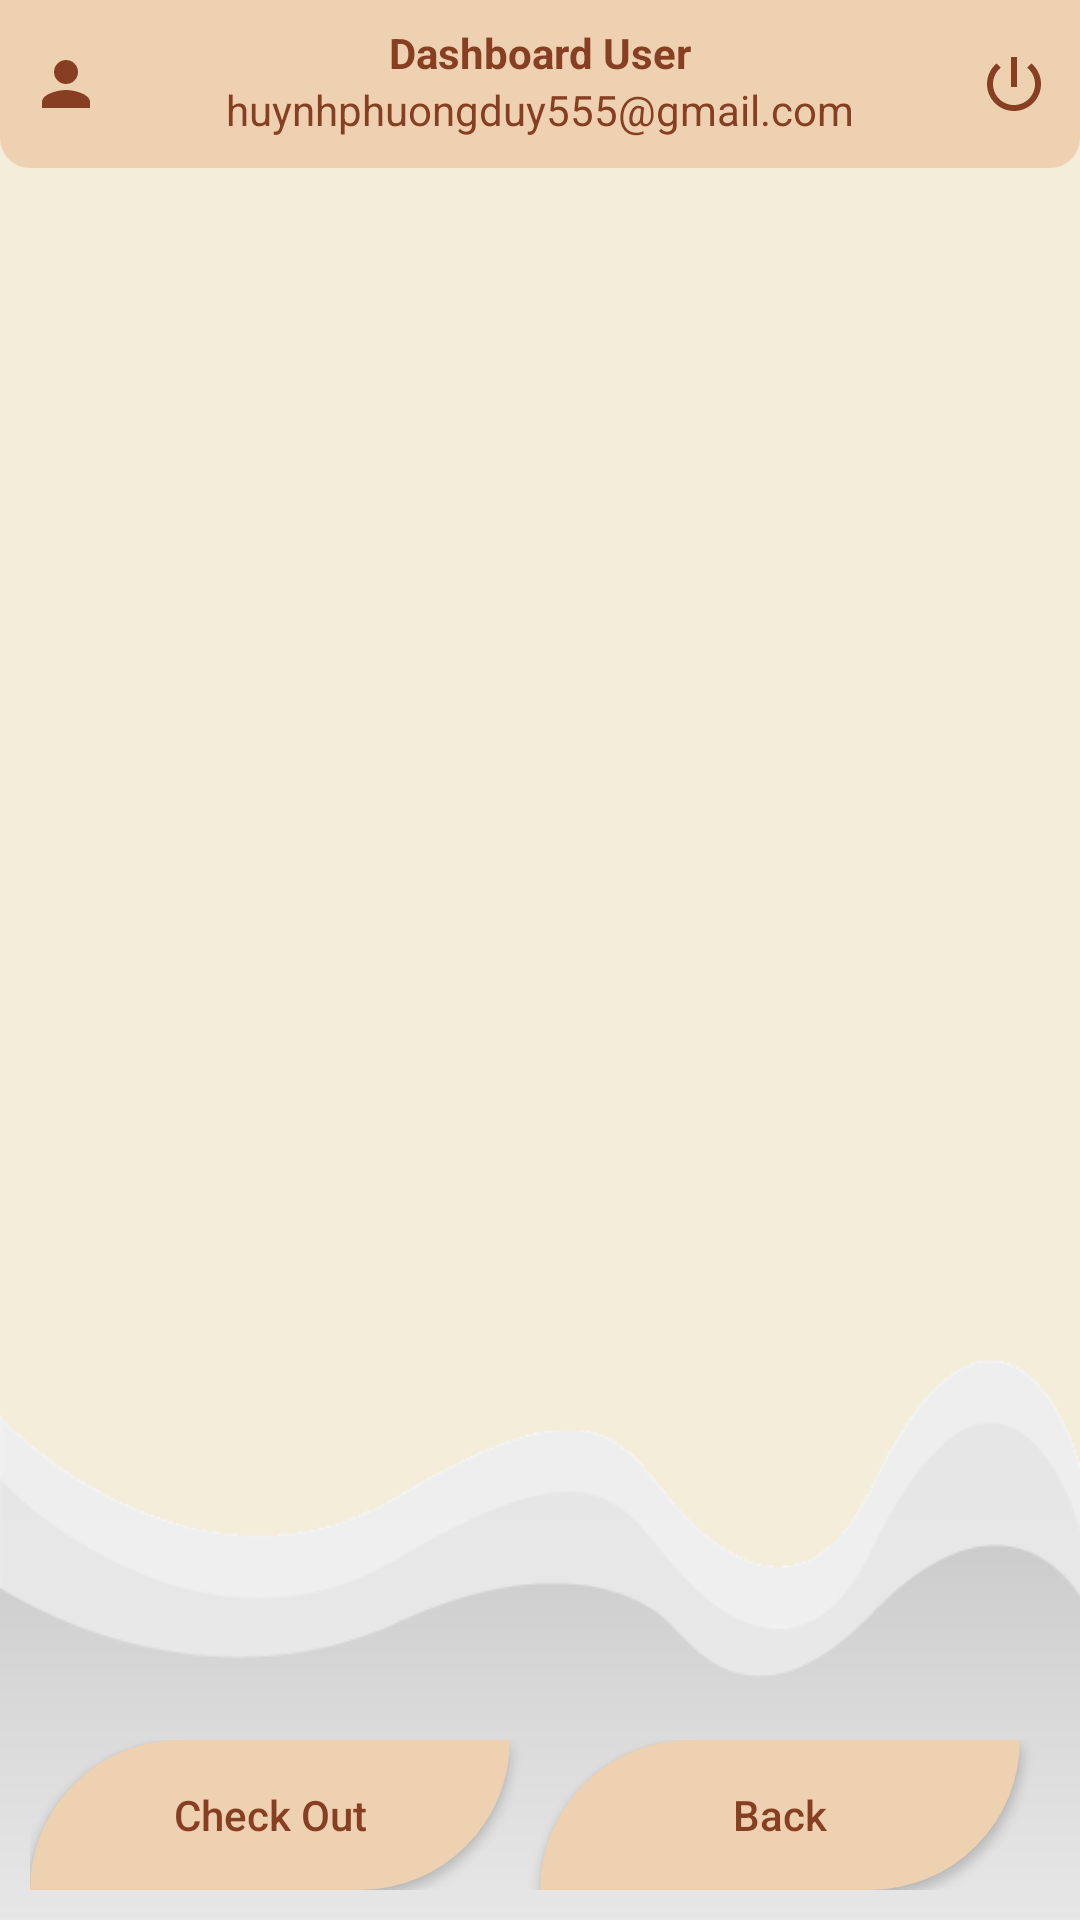

Named icons in this screenshot (1080w x 1920h) and their bounding boxes, (left=x1, top=y1, right=x2, bottom=y2):
person: (left=42, top=60, right=90, bottom=108)
power: (left=987, top=57, right=1041, bottom=111)
